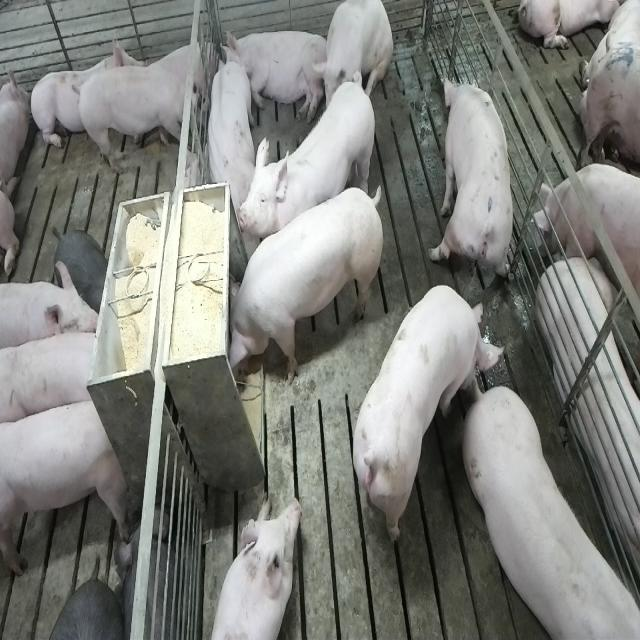Feeding: (219, 181, 382, 393)
Lateral_lying: (538, 220, 640, 592), (223, 26, 329, 128)
Sitting: (316, 2, 394, 132)
Standing: (466, 383, 640, 640), (347, 286, 500, 548), (2, 392, 134, 582), (240, 75, 380, 248), (430, 72, 516, 295), (536, 167, 640, 309), (76, 66, 202, 181), (2, 326, 102, 428), (4, 260, 104, 356)
Sternal_lying: (206, 492, 303, 640), (32, 29, 142, 154)
